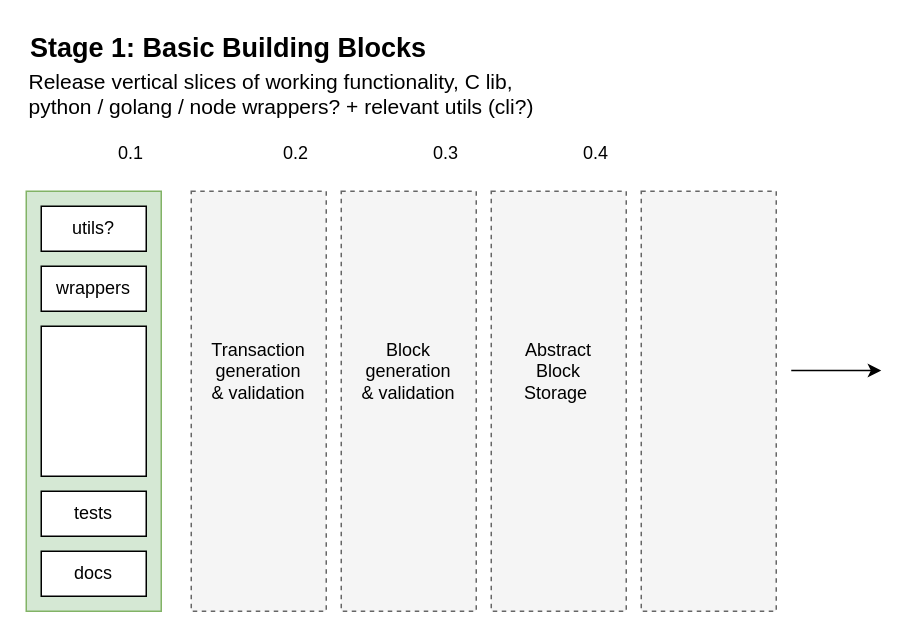
This 920x638 diagram has some shape labels left out. Here are the shapes that lost their labels. From the top down, the box of each, then its label:
(40, 325, 146, 476): Address generation & validation
(640, 190, 776, 611): Etc.
